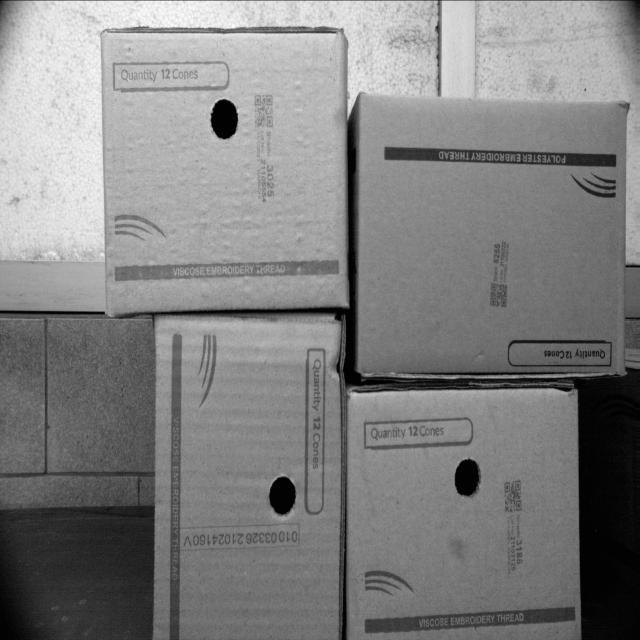box: (359, 87, 627, 380), (104, 27, 348, 310), (157, 314, 346, 639), (346, 388, 582, 639)
